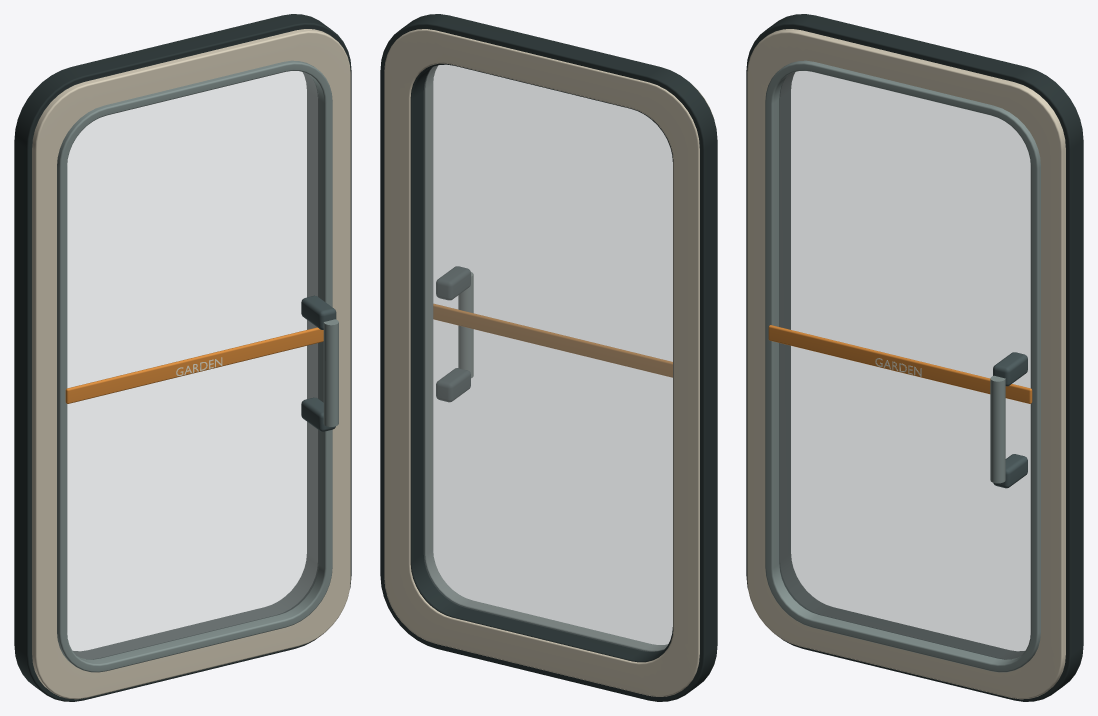
File: garden-door-glass-120.glb
3 renders of one model, left to right at view 1: azimuth 30°, elevation 25°; view 2: azimuth 150°, elevation 25°; view 3: azimuth 330°, elevation 25°, orthographic.
Visible parts, largest first — view 1: garden-door-glass-120 / 07 • smoked teal glass, garden-door-glass-120 / 01 • warm porcelain paint, garden-door-glass-120 / 04 • graphite gasket, garden-door-glass-120 / 05 • brushed titanium, garden-door-glass-120 / 03 • ochre enamel, garden-door-glass-120 / 06 • dark anodized frame; view 2: garden-door-glass-120 / 07 • smoked teal glass, garden-door-glass-120 / 01 • warm porcelain paint, garden-door-glass-120 / 04 • graphite gasket, garden-door-glass-120 / 05 • brushed titanium, garden-door-glass-120 / 03 • ochre enamel, garden-door-glass-120 / 06 • dark anodized frame; view 3: garden-door-glass-120 / 07 • smoked teal glass, garden-door-glass-120 / 01 • warm porcelain paint, garden-door-glass-120 / 04 • graphite gasket, garden-door-glass-120 / 05 • brushed titanium, garden-door-glass-120 / 03 • ochre enamel, garden-door-glass-120 / 06 • dark anodized frame.
Boxes of the visible parts, x1,y1,x2,y2 form: garden-door-glass-120 / 07 • smoked teal glass: (67, 71, 318, 659); garden-door-glass-120 / 01 • warm porcelain paint: (32, 29, 350, 699); garden-door-glass-120 / 04 • graphite gasket: (14, 14, 351, 701); garden-door-glass-120 / 05 • brushed titanium: (57, 60, 338, 672); garden-door-glass-120 / 03 • ochre enamel: (65, 327, 323, 403); garden-door-glass-120 / 06 • dark anodized frame: (301, 295, 336, 431); garden-door-glass-120 / 07 • smoked teal glass: (424, 65, 672, 651); garden-door-glass-120 / 01 • warm porcelain paint: (384, 29, 713, 696); garden-door-glass-120 / 04 • graphite gasket: (380, 14, 717, 701); garden-door-glass-120 / 05 • brushed titanium: (425, 65, 667, 651); garden-door-glass-120 / 03 • ochre enamel: (433, 304, 672, 377); garden-door-glass-120 / 06 • dark anodized frame: (436, 266, 470, 402); garden-door-glass-120 / 07 • smoked teal glass: (779, 71, 1030, 659); garden-door-glass-120 / 01 • warm porcelain paint: (747, 29, 1065, 699); garden-door-glass-120 / 04 • graphite gasket: (746, 14, 1083, 701); garden-door-glass-120 / 05 • brushed titanium: (765, 60, 1040, 672); garden-door-glass-120 / 03 • ochre enamel: (768, 325, 1032, 403); garden-door-glass-120 / 06 • dark anodized frame: (993, 352, 1027, 488).
Bounding box in the file's own units: 1.24 × 2.27 × 0.29.
